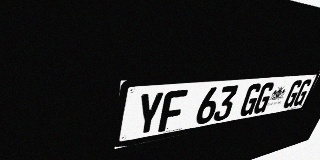3: (212, 85, 239, 122)
6: (194, 86, 222, 125)
F: (158, 89, 188, 132)
G: (238, 83, 263, 117), (252, 82, 276, 114), (282, 80, 304, 109), (292, 79, 313, 107)
Y: (133, 91, 165, 137)
